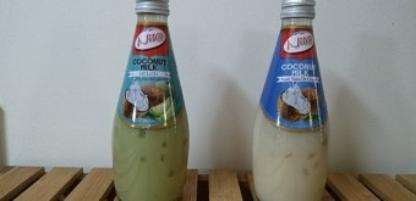Glass Bottle: (109, 0, 192, 201), (255, 0, 328, 201)
